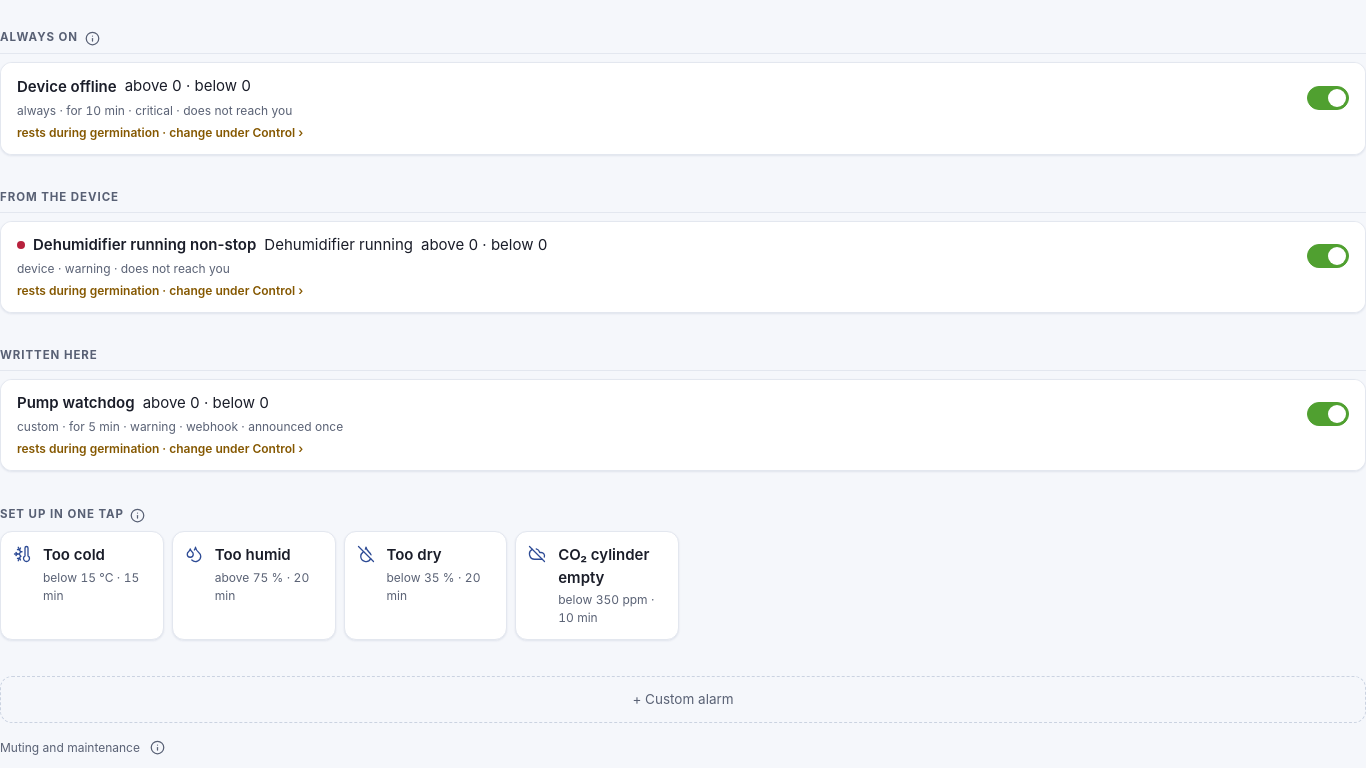
the rule sheet › refuses a band with no edge before the server has to
The width and height of the screenshot is (1366, 768).
(page scrolled)
Click the button "+ Custom alarm": click(683, 700) [0,676,1365,723]
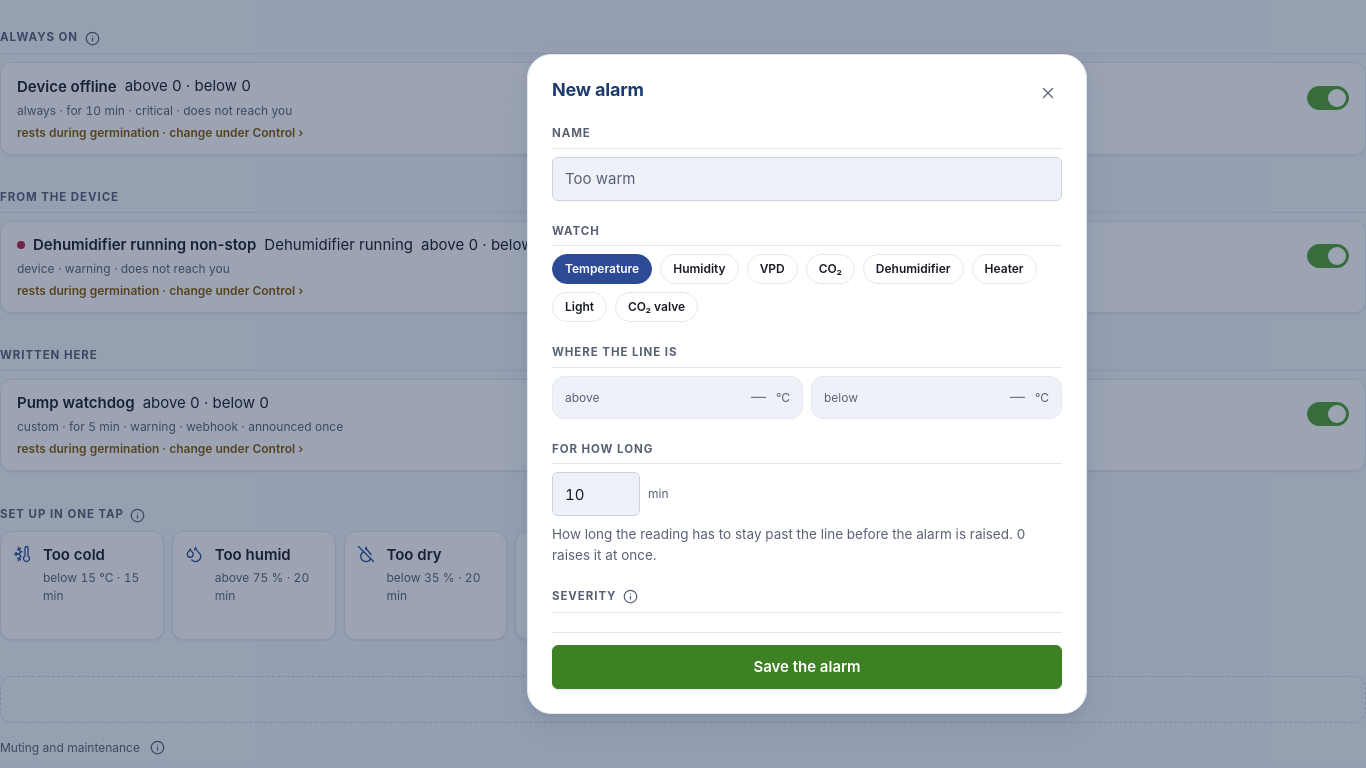
Click the button "Save the alarm": click(807, 667) [552,645,1062,689]
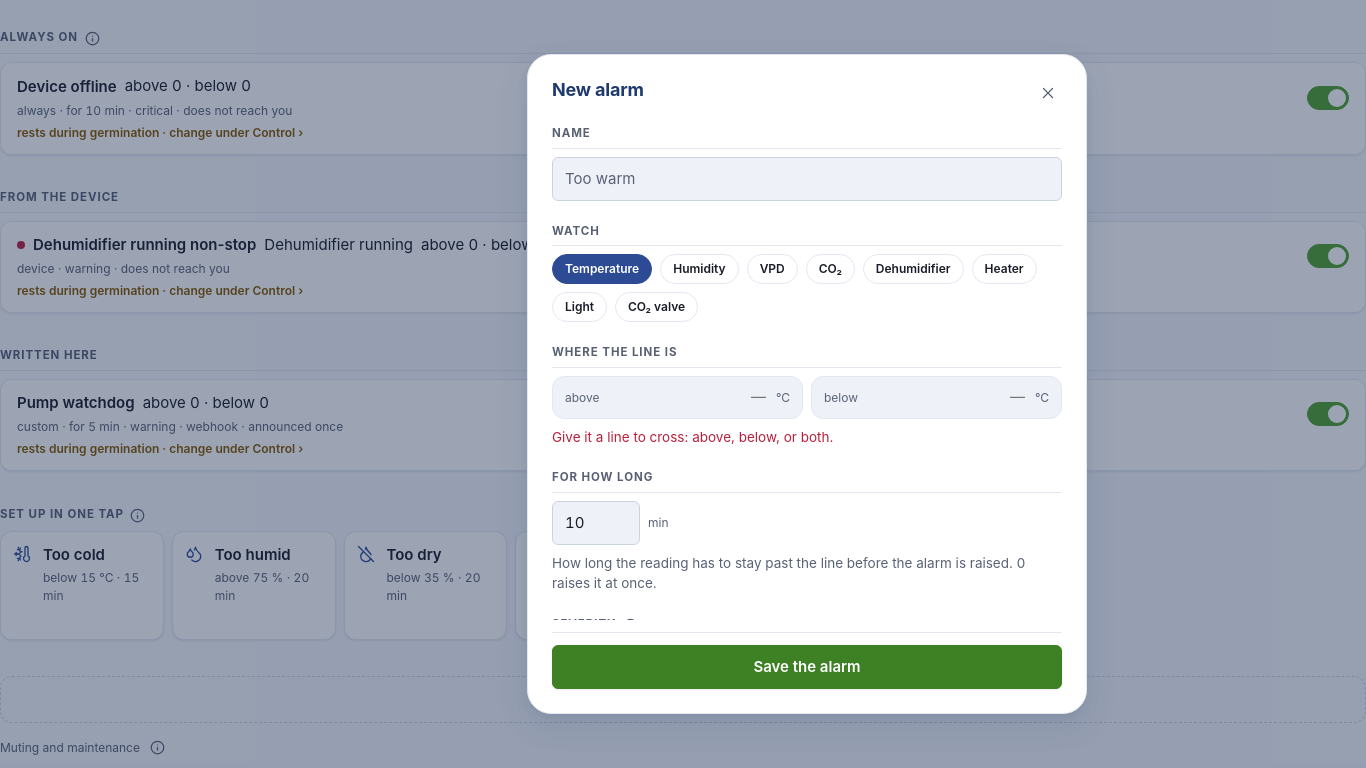
Check: the message shows "Give it a line to cross", box [552,429,833,445]
